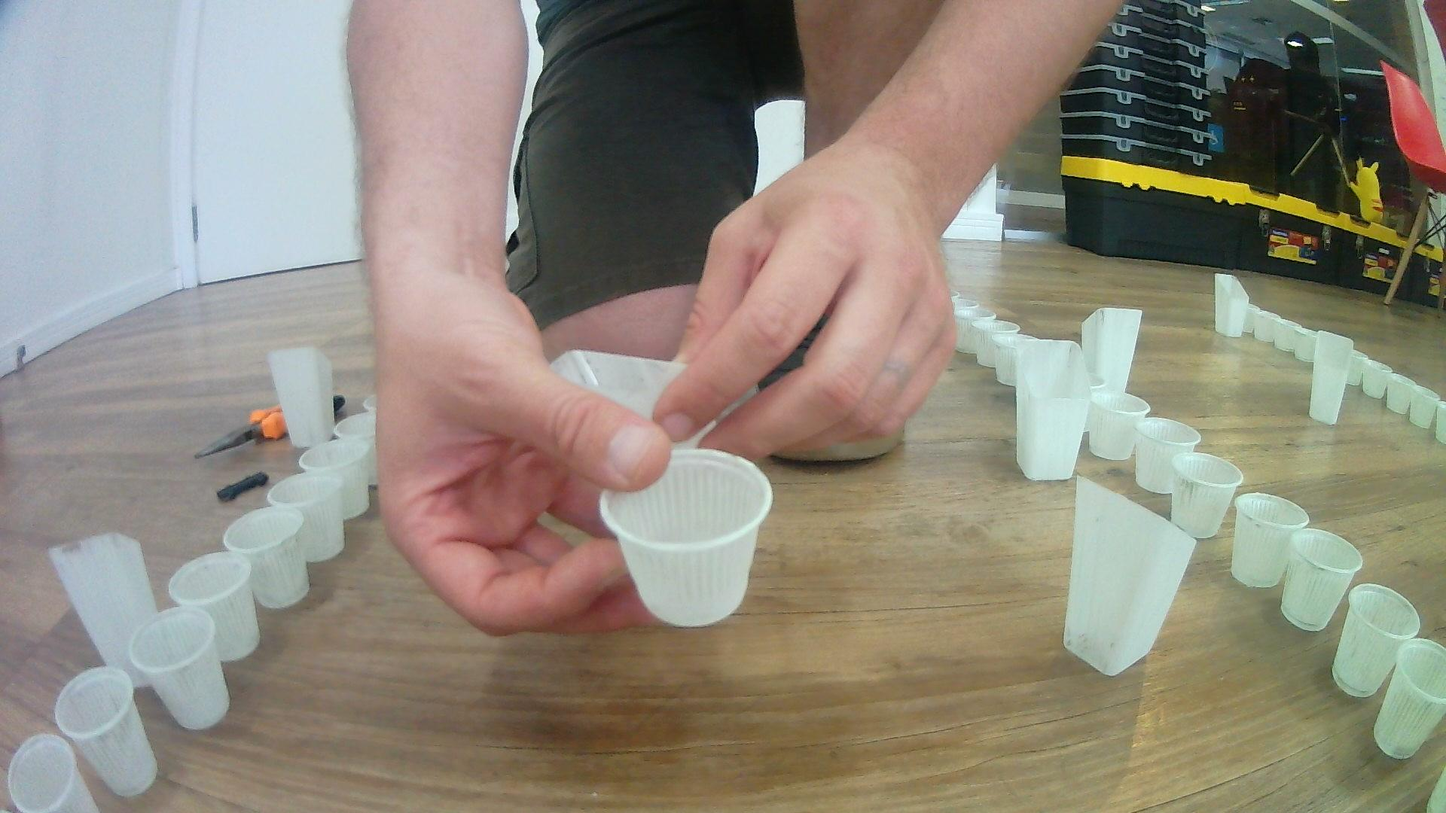erva_daninha: (1063, 473, 1200, 678), (551, 349, 756, 453), (47, 532, 157, 687), (1014, 340, 1092, 482), (266, 345, 335, 450), (1081, 307, 1144, 397), (1309, 330, 1355, 427), (1214, 273, 1252, 339)
planta: (599, 445, 775, 629), (55, 665, 161, 799), (130, 606, 232, 731), (168, 550, 261, 663), (1370, 637, 1446, 760), (221, 507, 310, 610), (1280, 527, 1364, 633), (4, 732, 106, 813), (265, 470, 346, 564), (1232, 492, 1310, 589), (1170, 450, 1246, 540), (297, 436, 370, 521), (1133, 416, 1203, 495), (1088, 390, 1152, 461), (334, 413, 377, 488), (991, 333, 1034, 387), (975, 319, 1020, 368), (961, 309, 997, 355), (1408, 387, 1442, 430), (1386, 373, 1420, 415), (1361, 360, 1393, 400), (951, 298, 979, 343), (1243, 303, 1275, 342), (1294, 327, 1322, 363), (1271, 318, 1300, 352), (1342, 349, 1366, 387), (1434, 402, 1446, 445)
